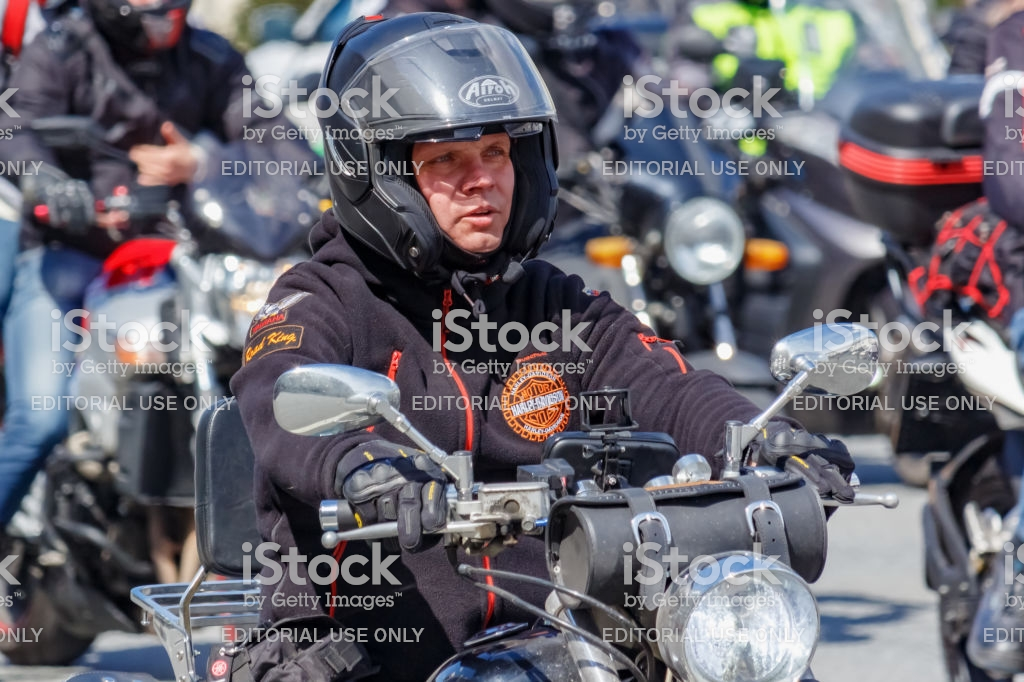helmet: (323, 9, 572, 252)
